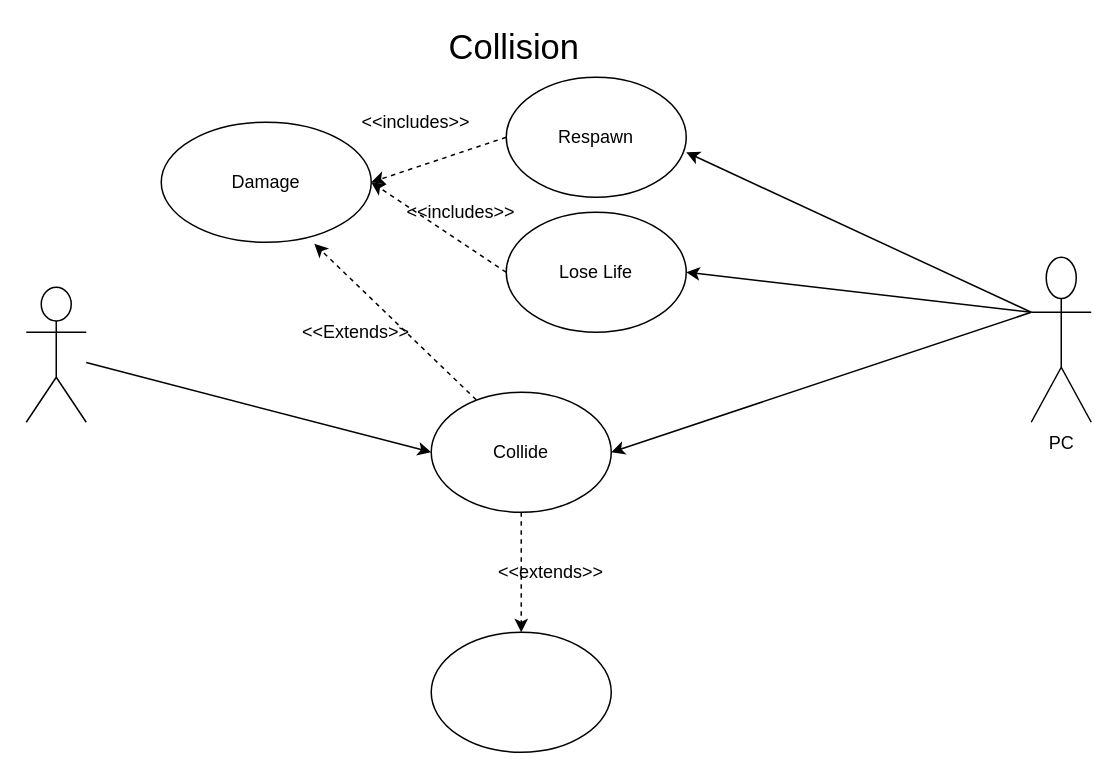
The diagram is 1118 pixels wide and 779 high, and some of its shapes have lost their labels. The centre of each missing label's shape, as x and y in pixels:
NPCs: the point at 55,354
slow: the point at 520,691
